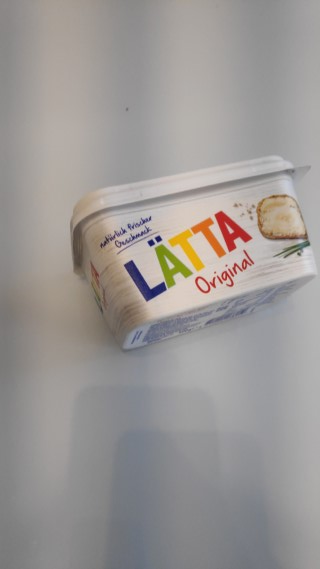laetta: (65, 153, 320, 351)
